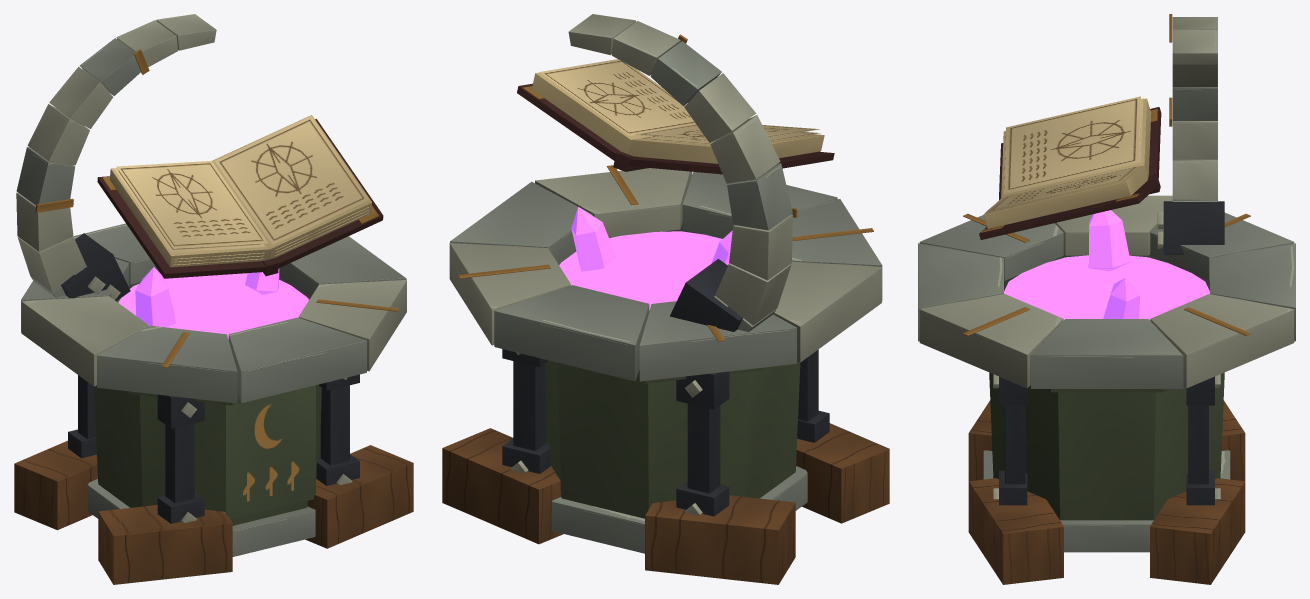
File: Moonwell_Shrine.fbx
3 renders of one model, left to right at view 1: azimuth 30°, elevation 25°; view 2: azimuth 150°, elevation 25°; view 3: azimuth 270°, elevation 25°, orthographic. The views are drawn at different scales.
Visible parts, largest first — view 1: Crescent_Iron_Socket; view 2: Crescent_Iron_Socket; view 3: Crescent_Iron_Socket.
Part boxes in pixels (x1=…): Crescent_Iron_Socket: x1=14, y1=14, x2=413, y2=584; Crescent_Iron_Socket: x1=442, y1=14, x2=889, y2=584; Crescent_Iron_Socket: x1=918, y1=14, x2=1295, y2=584.
Size of the model in its own units: 167 by 232 by 167.
Materials: 2 (1 with a texture image).
